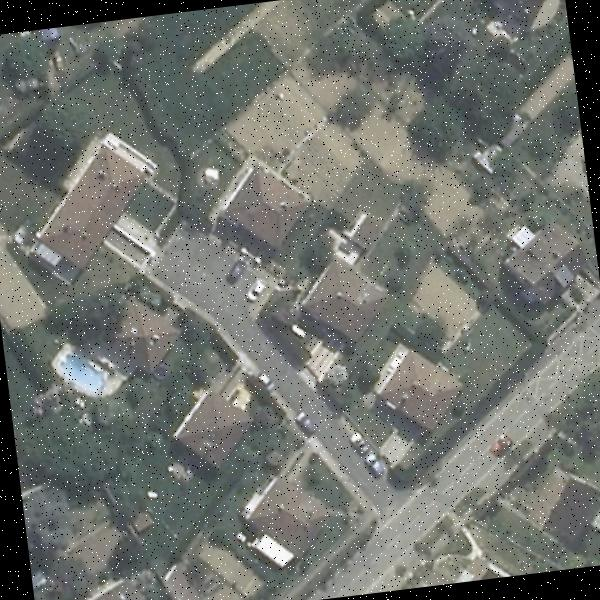Buildings: (50, 153, 141, 240), (373, 343, 461, 428), (250, 476, 336, 560), (97, 294, 184, 366), (310, 254, 385, 336), (229, 166, 309, 240), (179, 394, 250, 456), (511, 228, 584, 288), (0, 228, 37, 325), (542, 483, 598, 529), (484, 0, 556, 27), (61, 581, 152, 600)
